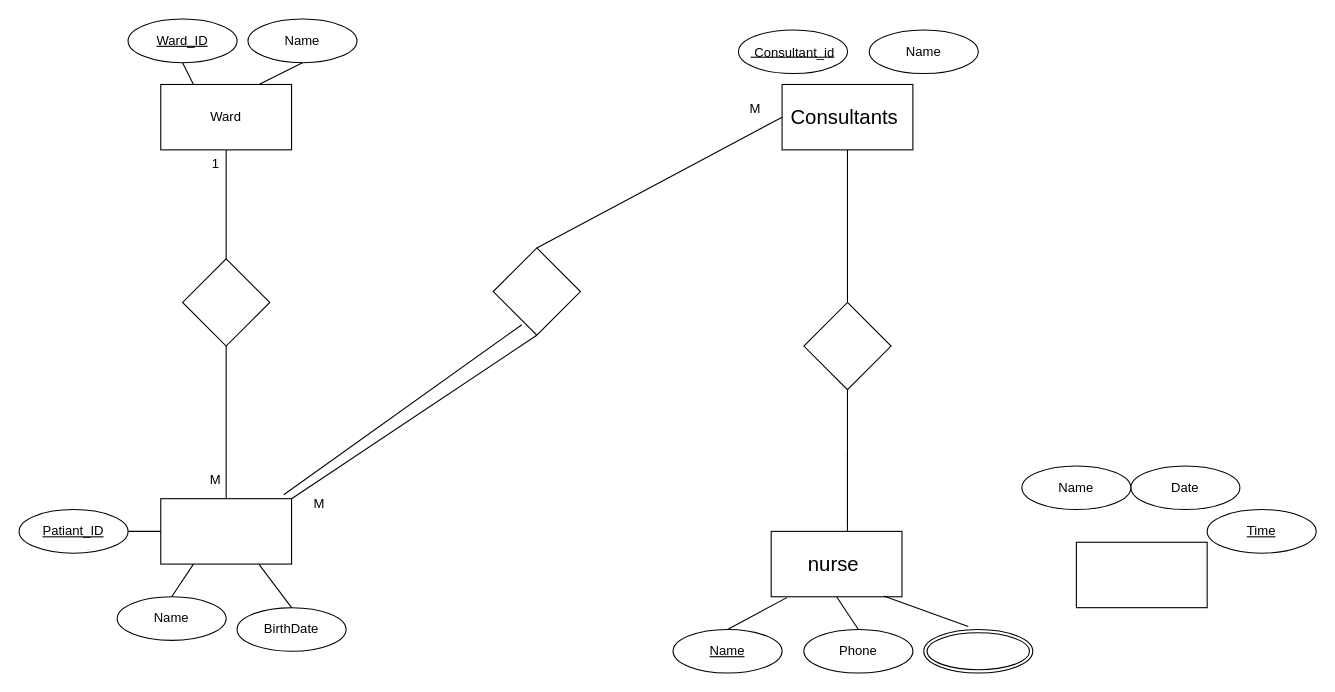
Image size: 1335x692. Some labels were removed from this diagram. Here are the shapes that lost their labels. From the top down, the box of each, then its label:
(181, 258, 270, 346): Host
(492, 247, 580, 335): Examin
(160, 498, 292, 564): Patients
(1075, 541, 1207, 608): Drug
(923, 628, 1033, 673): Address
